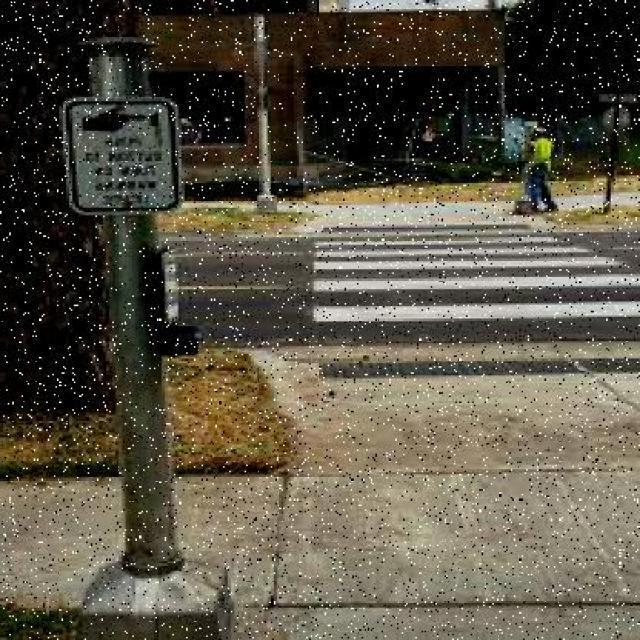Pedestrian crosswalk: (306, 208, 640, 351)
